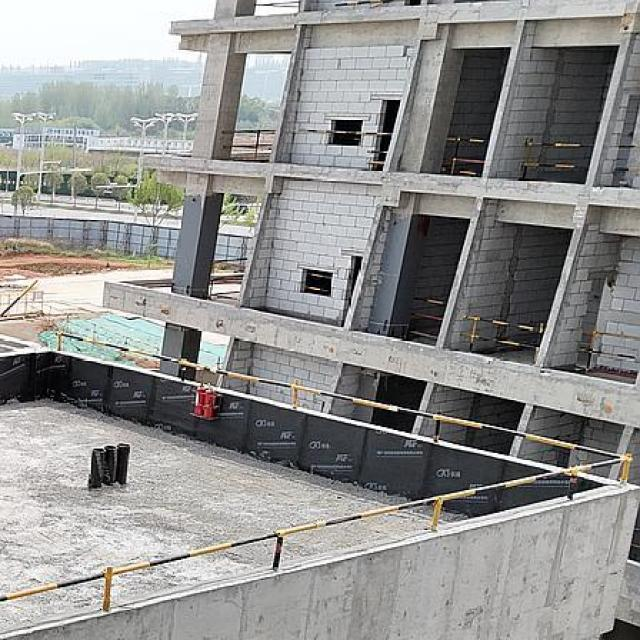edge_guardrail: (0, 327, 634, 640), (461, 314, 543, 366), (519, 137, 594, 180), (308, 129, 392, 165), (575, 330, 639, 373), (221, 130, 276, 160), (409, 295, 444, 341), (445, 137, 486, 176), (614, 144, 640, 172), (306, 271, 331, 293), (255, 1, 299, 12), (334, 0, 387, 9), (210, 290, 240, 300), (630, 527, 640, 549), (213, 257, 248, 263)
